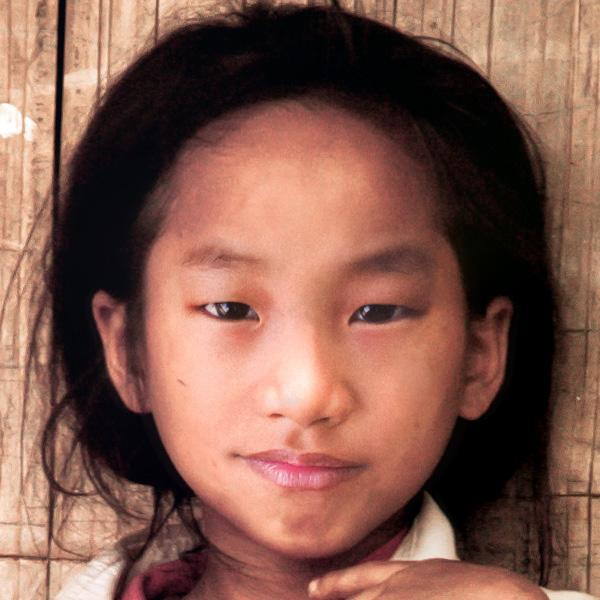Eyes: (181, 281, 268, 339), (338, 285, 428, 338)
